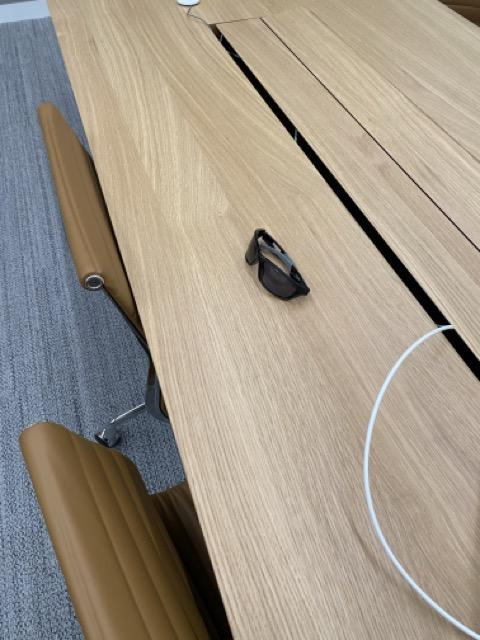Sunglasses: (245, 226, 311, 303)
